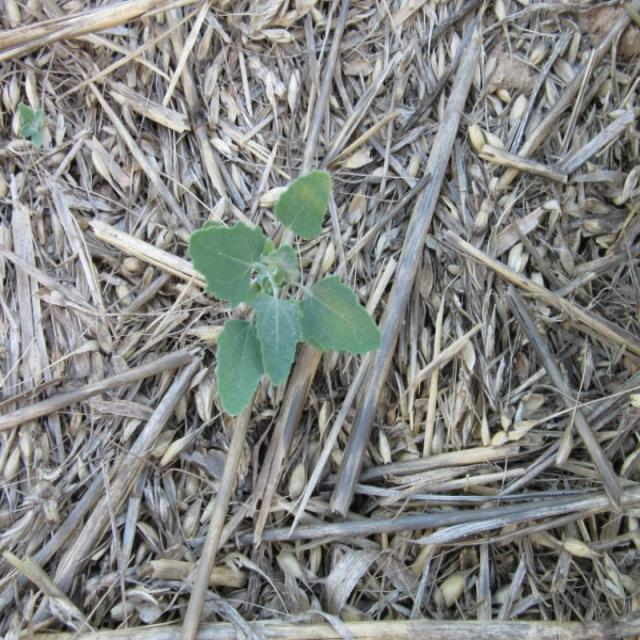ca: (191, 170, 381, 410)
